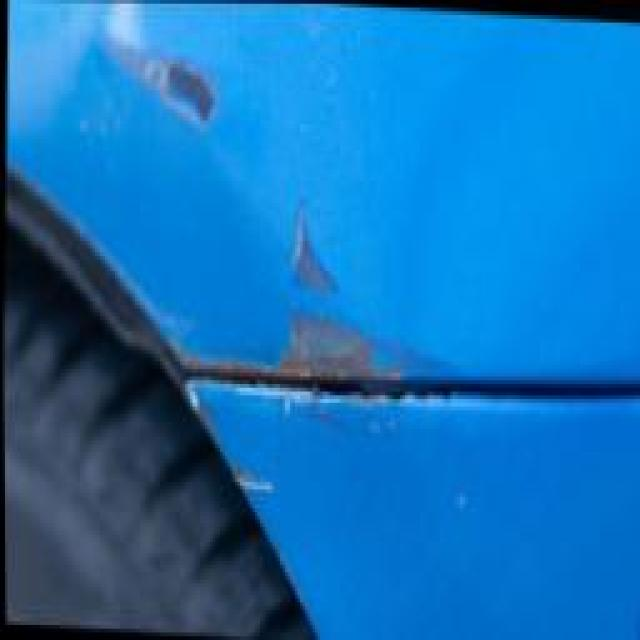Fender: (70, 15, 508, 403)
